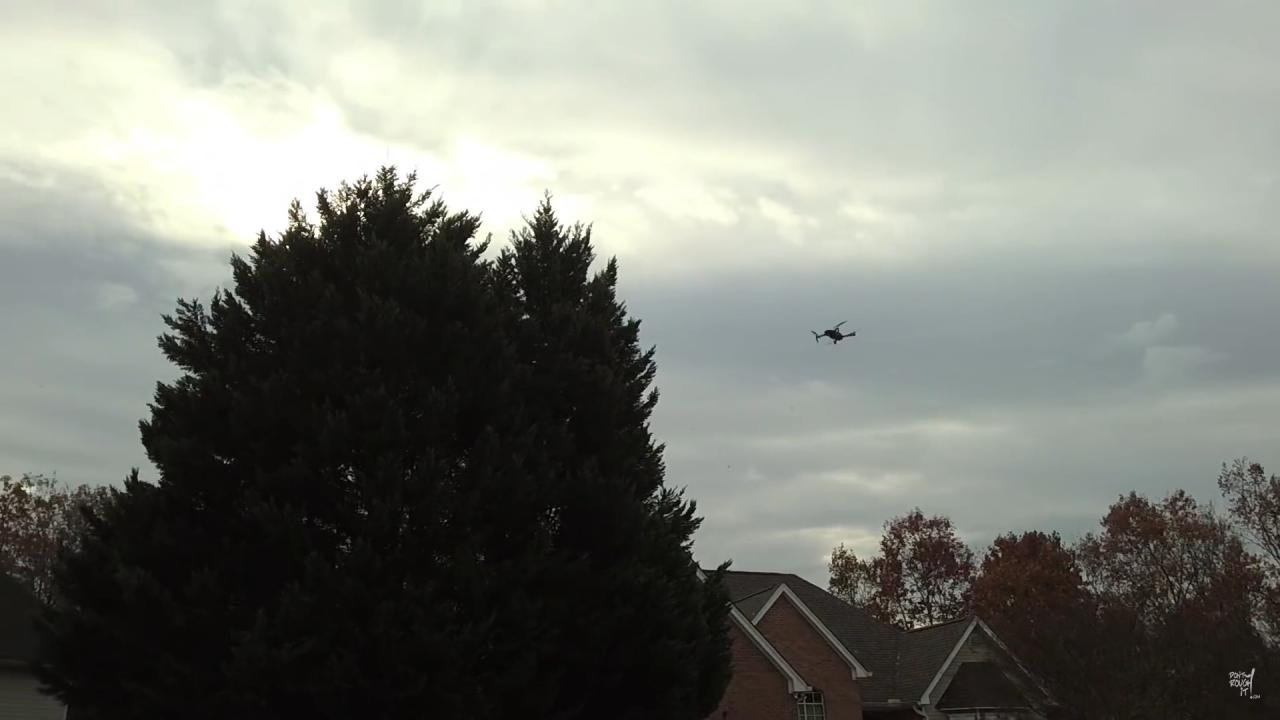Drone: (802, 314, 865, 352)
